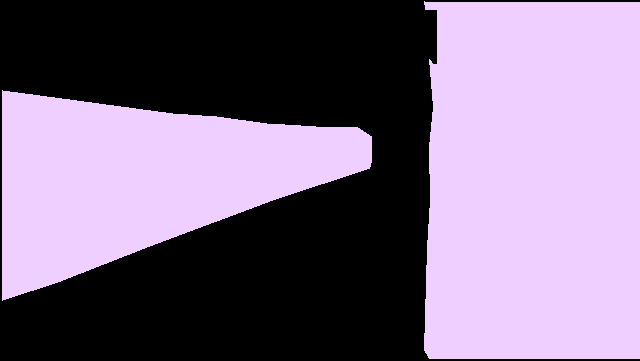Train: (2, 90, 372, 300), (424, 1, 640, 358)
